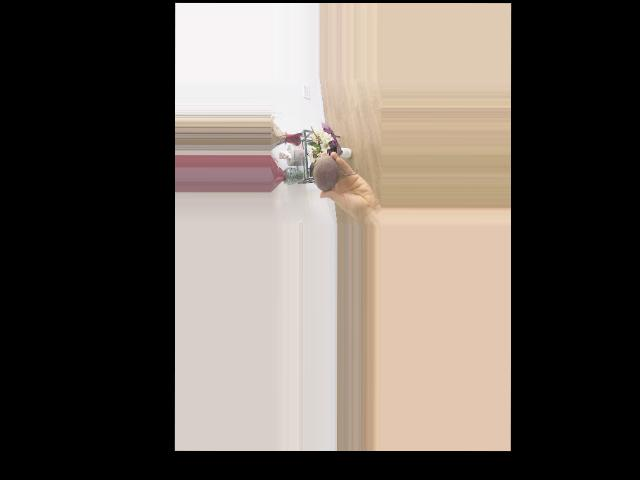beet: (309, 154, 357, 190)
